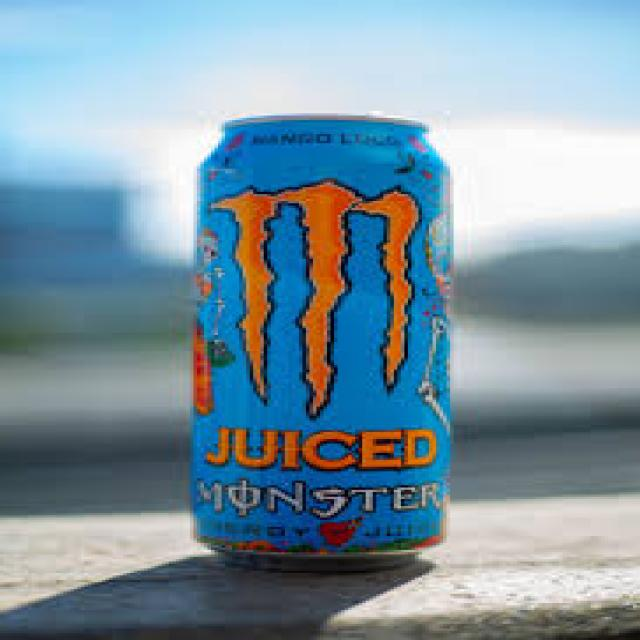Cans: (170, 97, 492, 577)
